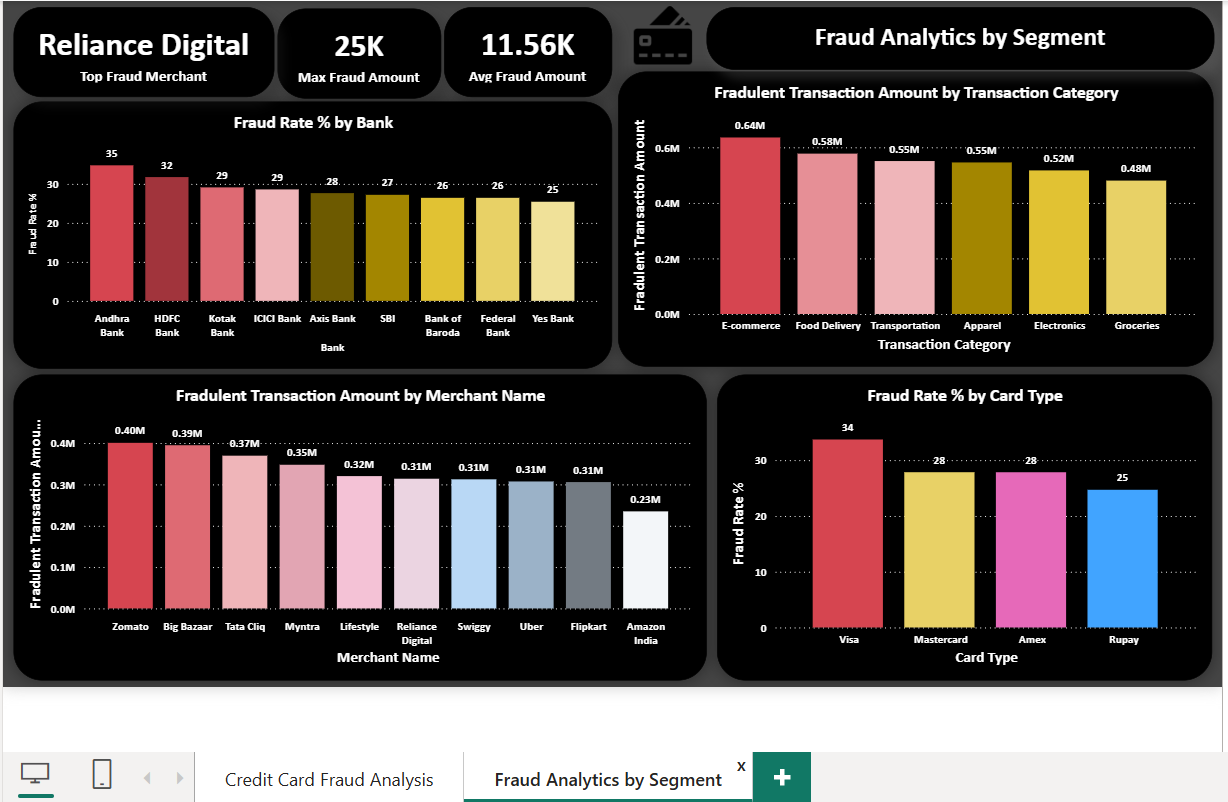

Layout of this report page (visuals, bound fields, positions):
{"tool":"powerbi","page":{"name":"Fraud Analytics by Segment","canvas":[1280,720],"ordinal":1},"visuals":[{"type":"columnChart","fields":{"Y":["Credit Card Fraud Risk Analysis.Fraud Rate %"],"Category":["Credit Card Fraud Risk Analysis.Card Type"]},"box":[749.7,392.2,519.8,321.3],"z":0},{"type":"columnChart","fields":{"Category":["Credit Card Fraud Risk Analysis.Merchant Name"],"Y":["Credit Card Fraud Risk Analysis.Fradulent Transaction Amount"]},"box":[11,392.2,727.7,321.3],"z":1000},{"type":"card","fields":{"Values":["Credit Card Fraud Risk Analysis.Max Fraud Amount"]},"box":[288.2,7.9,171.7,94.5],"z":2000},{"type":"card","fields":{"Values":["Credit Card Fraud Risk Analysis.Avg Fraud Amount"]},"box":[463.1,6.3,176.4,94.5],"z":3000},{"type":"columnChart","fields":{"Y":["Credit Card Fraud Risk Analysis.Fradulent Transaction Amount"],"Category":["Credit Card Fraud Risk Analysis.Transaction Category"]},"box":[645.8,74,625.3,310.3],"z":4000},{"type":"columnChart","fields":{"Y":["Credit Card Fraud Risk Analysis.Fraud Rate %"],"Category":["Credit Card Fraud Risk Analysis.Bank"]},"box":[11,105.5,628.5,280.4],"z":5000},{"type":"card","fields":{"Values":["Credit Card Fraud Risk Analysis.Top Fraud Merchant"]},"box":[11,6.3,274.1,94.5],"z":6000},{"type":"textbox","box":[739.2,5.8,533.5,66.2],"z":7000},{"type":"image","box":[614.1,0,156.8,71.9],"z":8000}]}

Visuals, with their boxes on the page's 1280x720 design canvas (x1, y1, x2, y2). These are canvas units, not pixel positions in the 1228x802 screenshot, which may show the page scaled, cropped or inside an application window:
columnChart - Credit Card Fraud Risk Analysis.Fraud Rate % x Credit Card Fraud Risk Analysis.Card Type: left=750, top=392, right=1270, bottom=714
columnChart - Credit Card Fraud Risk Analysis.Merchant Name x Credit Card Fraud Risk Analysis.Fradulent Transaction Amount: left=11, top=392, right=739, bottom=714
card - Credit Card Fraud Risk Analysis.Max Fraud Amount: left=288, top=8, right=460, bottom=102
card - Credit Card Fraud Risk Analysis.Avg Fraud Amount: left=463, top=6, right=640, bottom=101
columnChart - Credit Card Fraud Risk Analysis.Fradulent Transaction Amount x Credit Card Fraud Risk Analysis.Transaction Category: left=646, top=74, right=1271, bottom=384
columnChart - Credit Card Fraud Risk Analysis.Fraud Rate % x Credit Card Fraud Risk Analysis.Bank: left=11, top=106, right=640, bottom=386
card - Credit Card Fraud Risk Analysis.Top Fraud Merchant: left=11, top=6, right=285, bottom=101
textbox: left=739, top=6, right=1273, bottom=72
image: left=614, top=0, right=771, bottom=72
